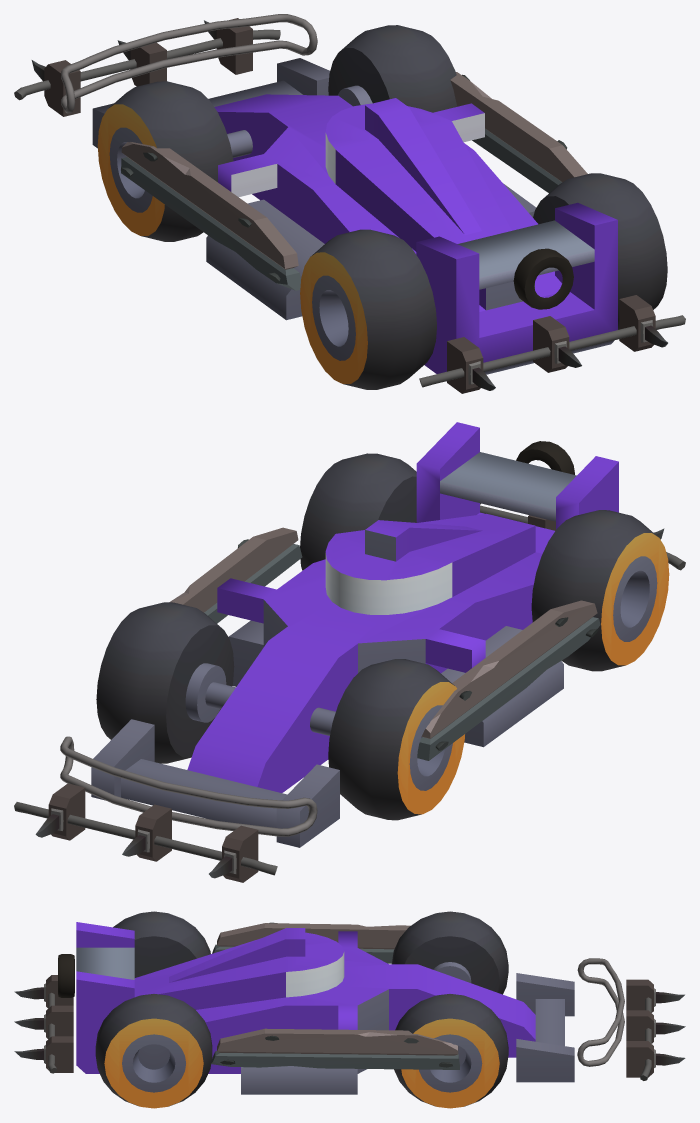
Rendered from car_vortex.glb.
3 views of the same model, one above another, from view 1: azimuth 30°, elevation 25°; view 2: azimuth 150°, elevation 25°; view 3: azimuth 270°, elevation 25° (orthographic). The views are drawn at different scales.
Visible parts, largest first — view 1: body_mesh, wheel_RL_mesh, armor_1_mesh, armor_2_mesh, wheel_FL_mesh, wheel_FR_mesh, armor_3_mesh, wheel_RR_mesh; view 2: body_mesh, wheel_FL_mesh, wheel_RL_mesh, armor_1_mesh, wheel_FR_mesh, armor_3_mesh, wheel_RR_mesh, armor_2_mesh; view 3: body_mesh, armor_1_mesh, wheel_RR_mesh, wheel_FR_mesh, wheel_FL_mesh, armor_2_mesh, armor_3_mesh, wheel_RL_mesh.
Boxes of the visible parts, left/top/right/bottom form: body_mesh: left=92, top=58, right=617, bottom=374; wheel_RL_mesh: left=300, top=229, right=436, bottom=389; armor_1_mesh: left=121, top=72, right=587, bottom=290; armor_2_mesh: left=61, top=14, right=685, bottom=393; wheel_FL_mesh: left=97, top=81, right=233, bottom=241; wheel_FR_mesh: left=328, top=25, right=457, bottom=112; armor_3_mesh: left=14, top=18, right=573, bottom=309; wheel_RR_mesh: left=533, top=173, right=667, bottom=329; body_mesh: left=91, top=422, right=618, bottom=847; wheel_FL_mesh: left=328, top=659, right=464, bottom=820; wheel_RL_mesh: left=531, top=510, right=669, bottom=671; armor_1_mesh: left=169, top=527, right=600, bottom=760; wheel_FR_mesh: left=96, top=602, right=234, bottom=763; armor_3_mesh: left=14, top=441, right=574, bottom=882; wheel_RR_mesh: left=300, top=453, right=416, bottom=570; armor_2_mesh: left=60, top=503, right=685, bottom=836; body_mesh: left=76, top=922, right=574, bottom=1094; armor_1_mesh: left=211, top=922, right=459, bottom=1069; wheel_RR_mesh: left=95, top=994, right=212, bottom=1108; wheel_FR_mesh: left=394, top=994, right=508, bottom=1108; wheel_FL_mesh: left=392, top=911, right=508, bottom=994; armor_2_mesh: left=14, top=958, right=624, bottom=1073; armor_3_mesh: left=58, top=954, right=685, bottom=1080; wheel_RL_mesh: left=113, top=911, right=210, bottom=977.
Size of the model in its own units: 2.24 by 1.17 by 5.53.
Materials: 3 (2 with a texture image).
